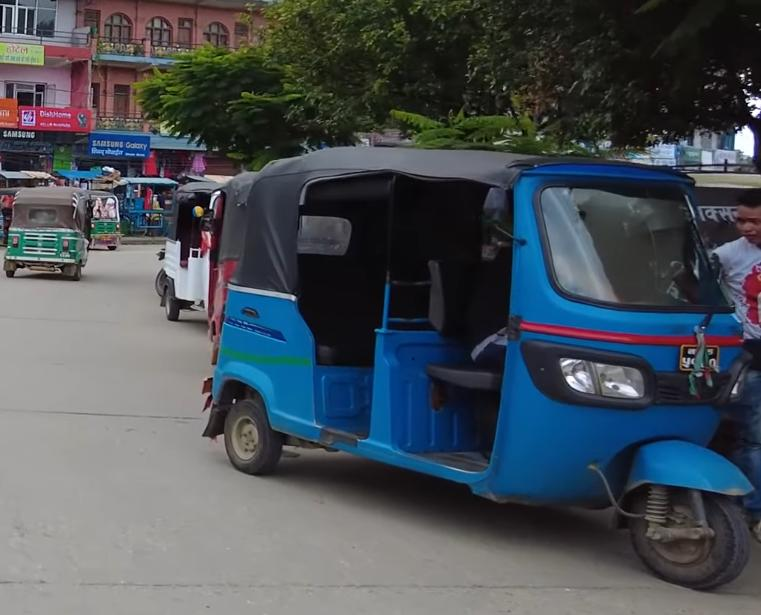auto_rickshaw: (201, 141, 761, 591), (4, 186, 96, 285)
